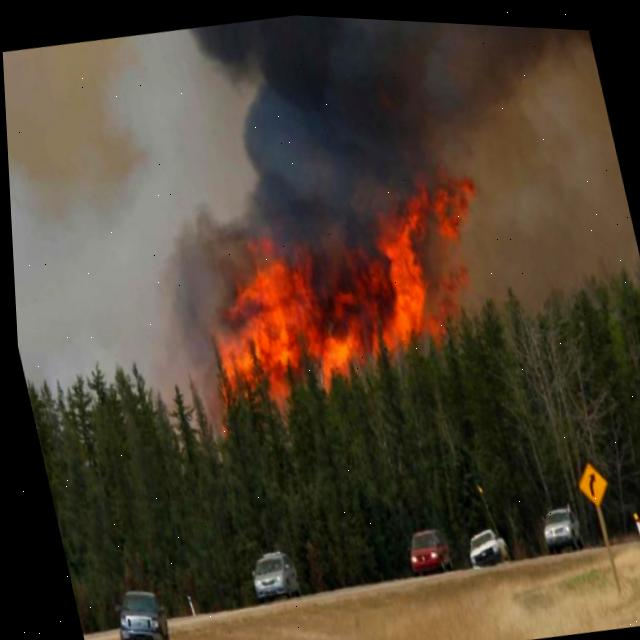fire: (212, 172, 472, 395)
smoke: (2, 12, 638, 419), (167, 12, 638, 361)
